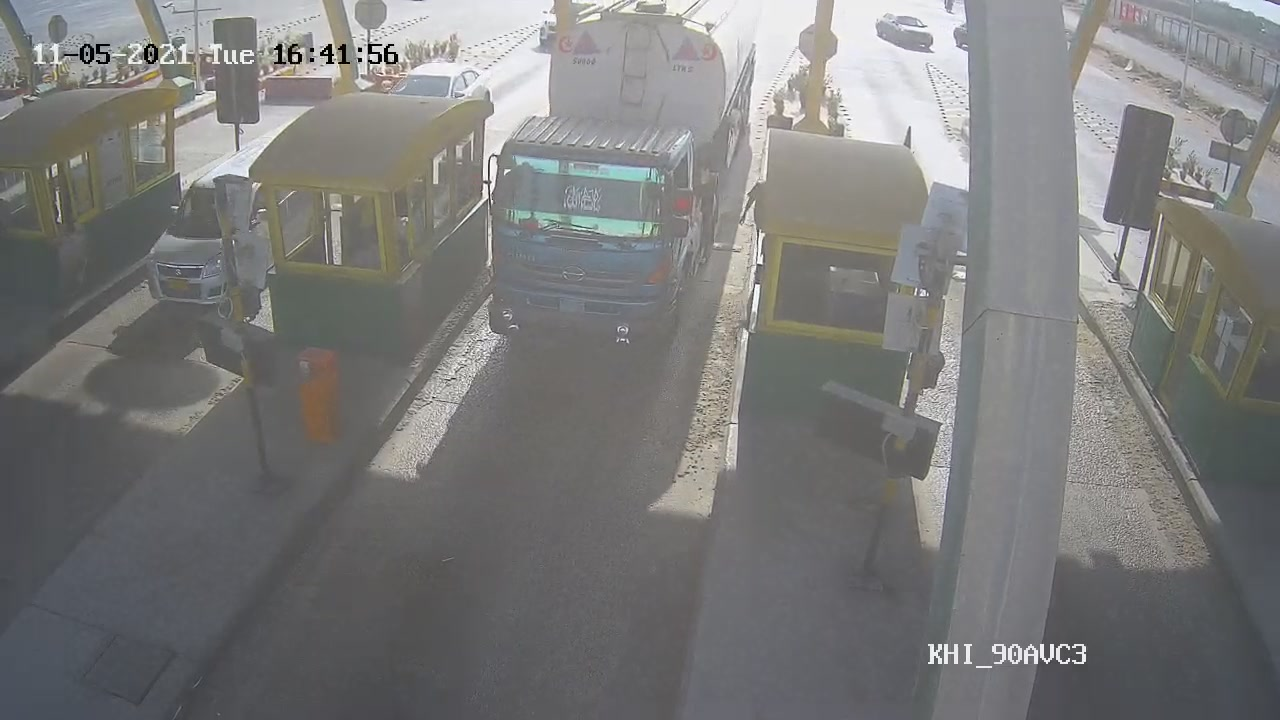F6: (481, 1, 760, 344)
